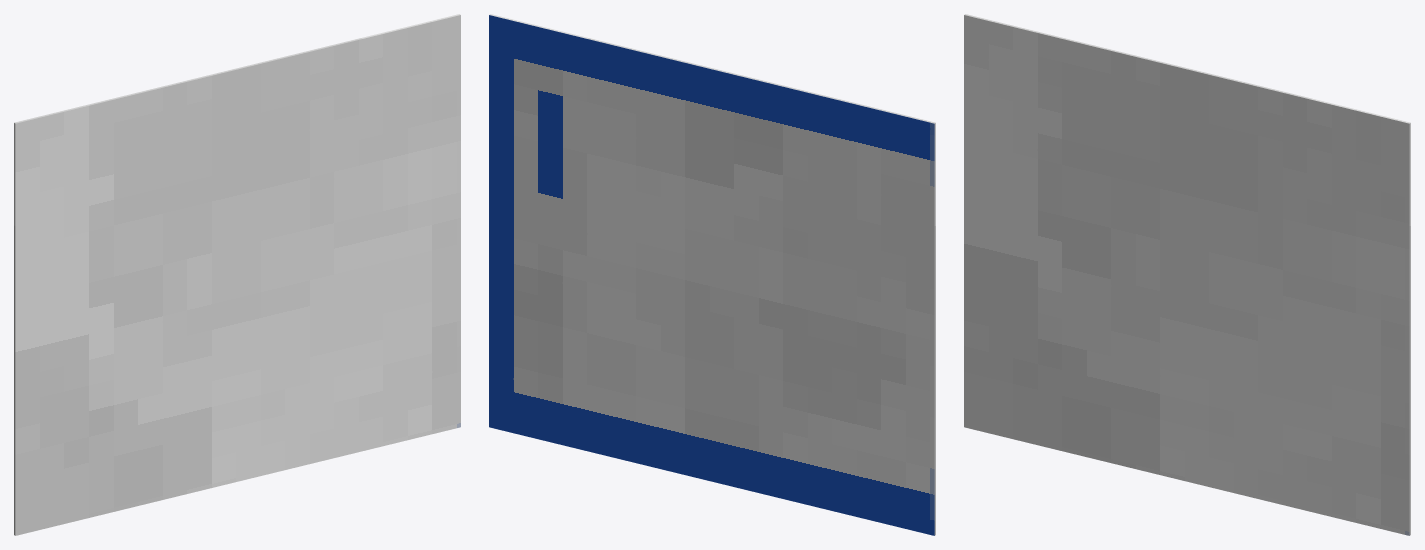
Rendered from S1_Right.glb.
The picture shows the model from 3 angles, left to right: view 1: azimuth 30°, elevation 25°; view 2: azimuth 150°, elevation 25°; view 3: azimuth 330°, elevation 25°; orthographic projection.
Parts seen in each view (by area): view 1: S1_Component_Panel_Starboard; view 2: S1_Component_Panel_Starboard; view 3: S1_Component_Panel_Starboard.
Part boxes in pixels (x1,y1,x2,y2): S1_Component_Panel_Starboard: (14,14,460,535); S1_Component_Panel_Starboard: (489,14,935,535); S1_Component_Panel_Starboard: (964,14,1410,535).
Size of the model in its own units: 1.89 by 1.67 by 0.01.
1 material, 1 textured.
